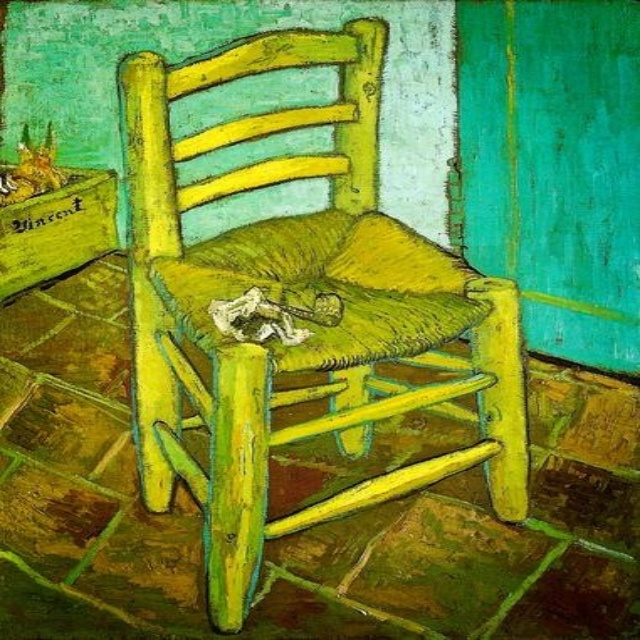obstacle: (119, 18, 527, 631)
